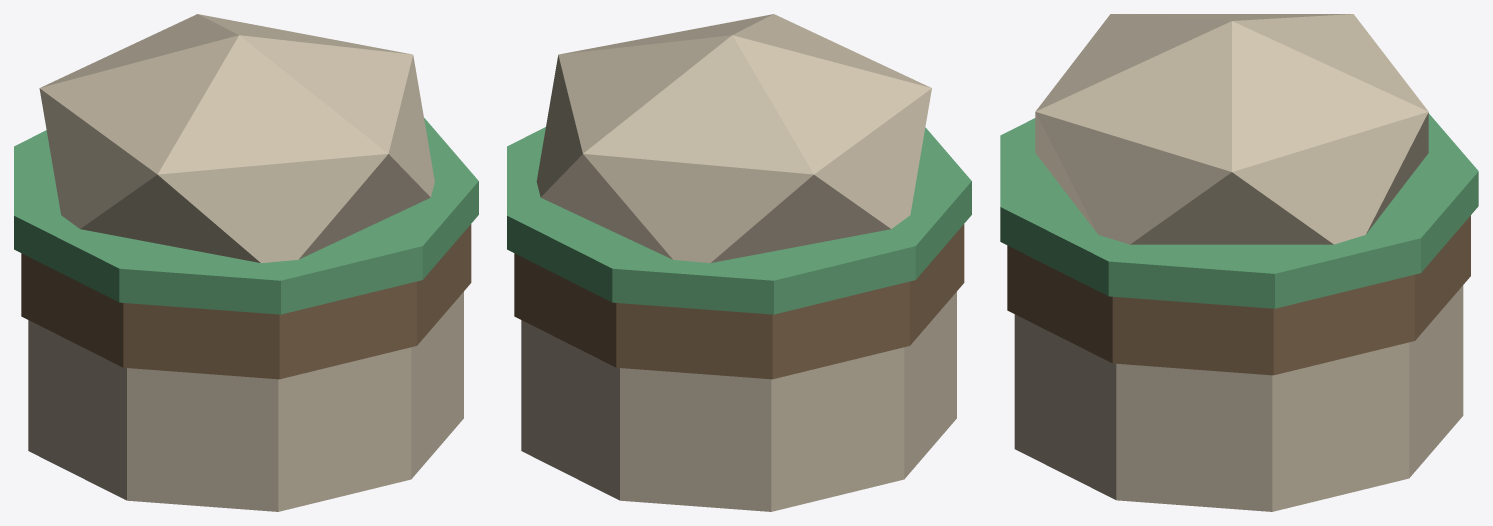
File: Esya_Burger.glb
3 renders of one model, left to right at view 1: azimuth 30°, elevation 25°; view 2: azimuth 150°, elevation 25°; view 3: azimuth 270°, elevation 25°, orthographic. The views are drawn at different scales.
Visible parts, largest first — view 1: Esya_Burger; view 2: Esya_Burger; view 3: Esya_Burger.
Part boxes in pixels (box(x1,y1,x2,y2)): Esya_Burger: box(14, 14, 478, 511); Esya_Burger: box(507, 14, 971, 511); Esya_Burger: box(1000, 14, 1478, 511).
Size of the model in its own units: 0.1261 by 0.113 by 0.1241.
